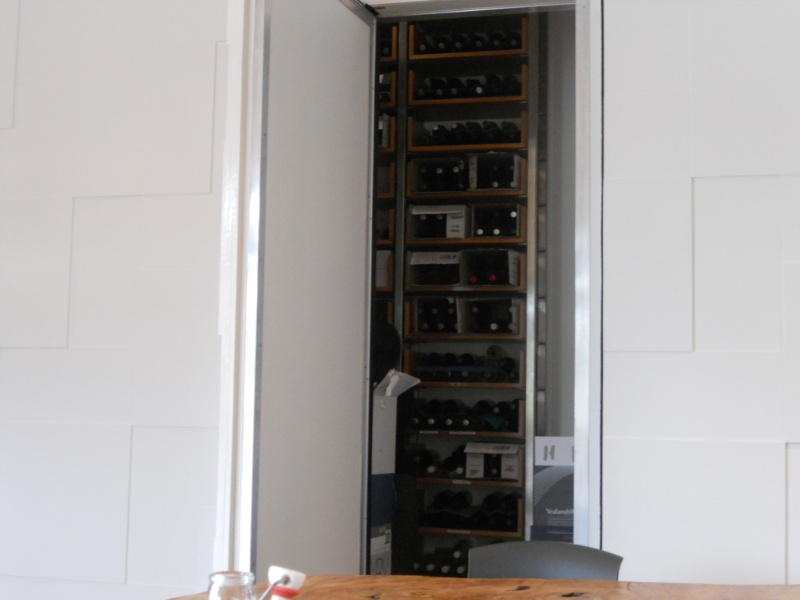wine: (368, 1, 565, 588)
